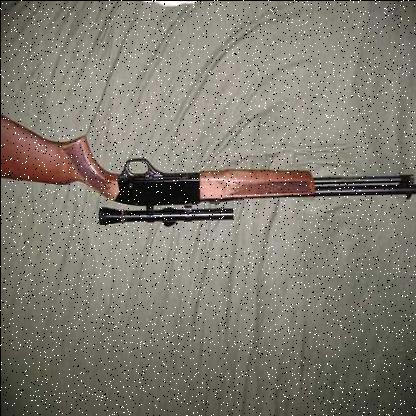rifle: (1, 71, 415, 237)
